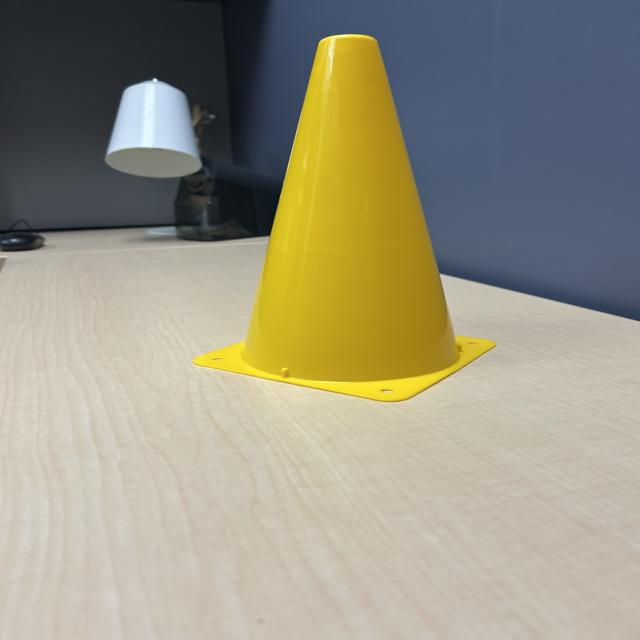yellow cone: (186, 32, 503, 405)
